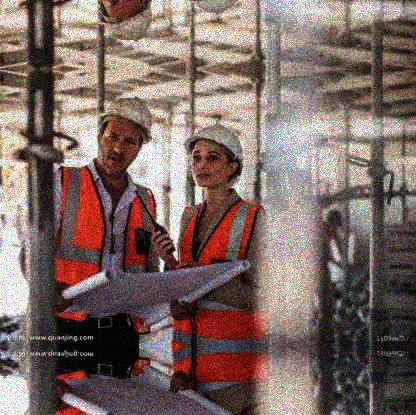helmet: (93, 95, 155, 180), (184, 122, 243, 192), (96, 1, 154, 41)
